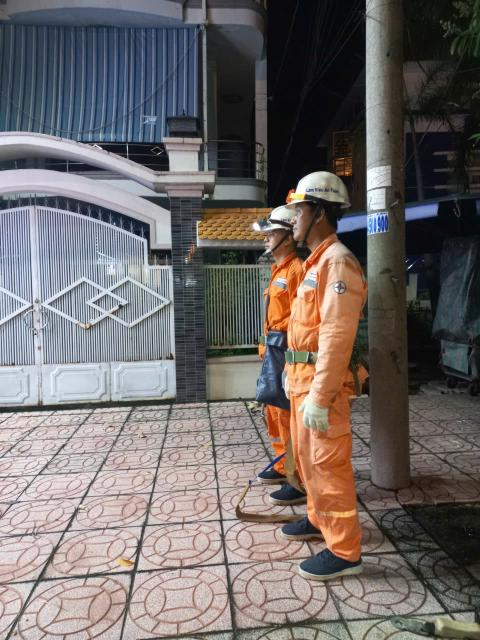gloves: (293, 395, 331, 430)
harness: (279, 350, 349, 370)
helmet: (288, 173, 358, 214), (246, 196, 300, 239)
shoes: (299, 546, 360, 579), (265, 515, 330, 543), (265, 483, 325, 513), (249, 457, 296, 487)
